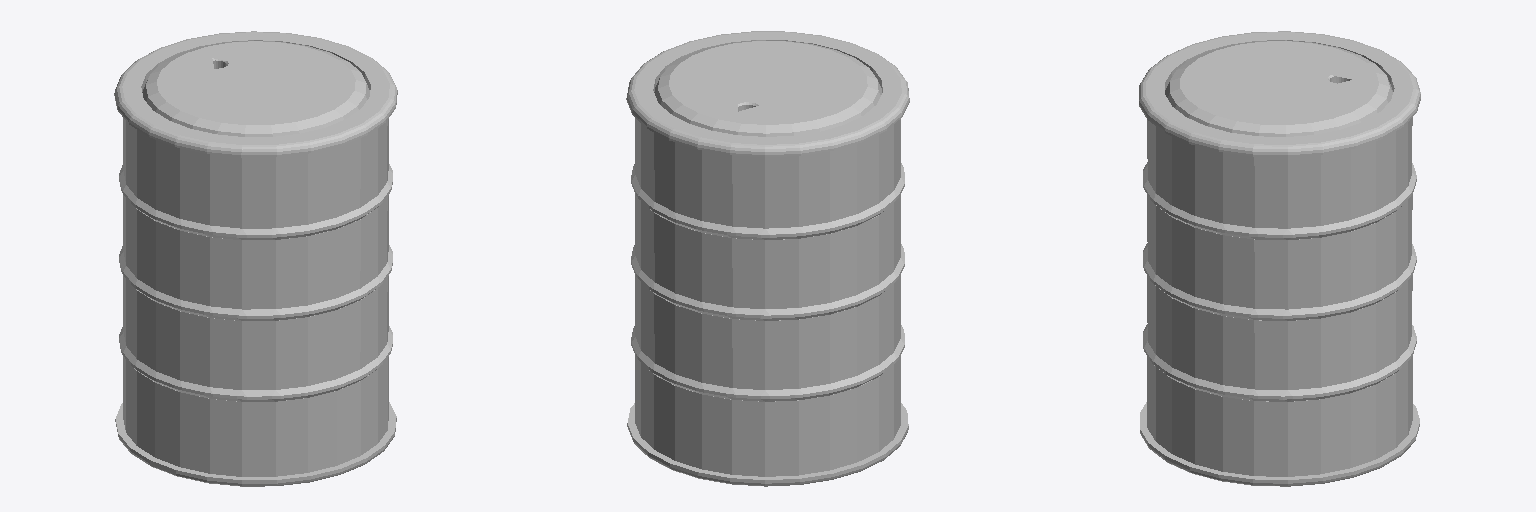
Rendered from Barrel.obj.
The picture shows the model from 3 angles: view 1: azimuth 30°, elevation 25°; view 2: azimuth 150°, elevation 25°; view 3: azimuth 270°, elevation 25°; orthographic projection.
Visible parts, largest first — view 1: Cylinder.037; view 2: Cylinder.037; view 3: Cylinder.037.
Boxes of the visible parts, x1,y1,x2,y2 form: Cylinder.037: [114, 31, 397, 486]; Cylinder.037: [626, 31, 909, 486]; Cylinder.037: [1139, 31, 1420, 486].
Bounding box in the file's own units: 1.3 × 1.75 × 1.3.